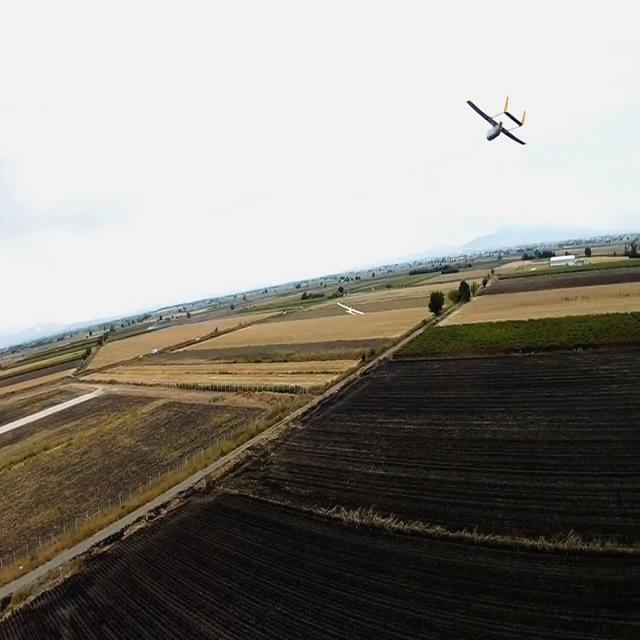iha: (336, 300, 366, 318), (494, 26, 499, 89)
